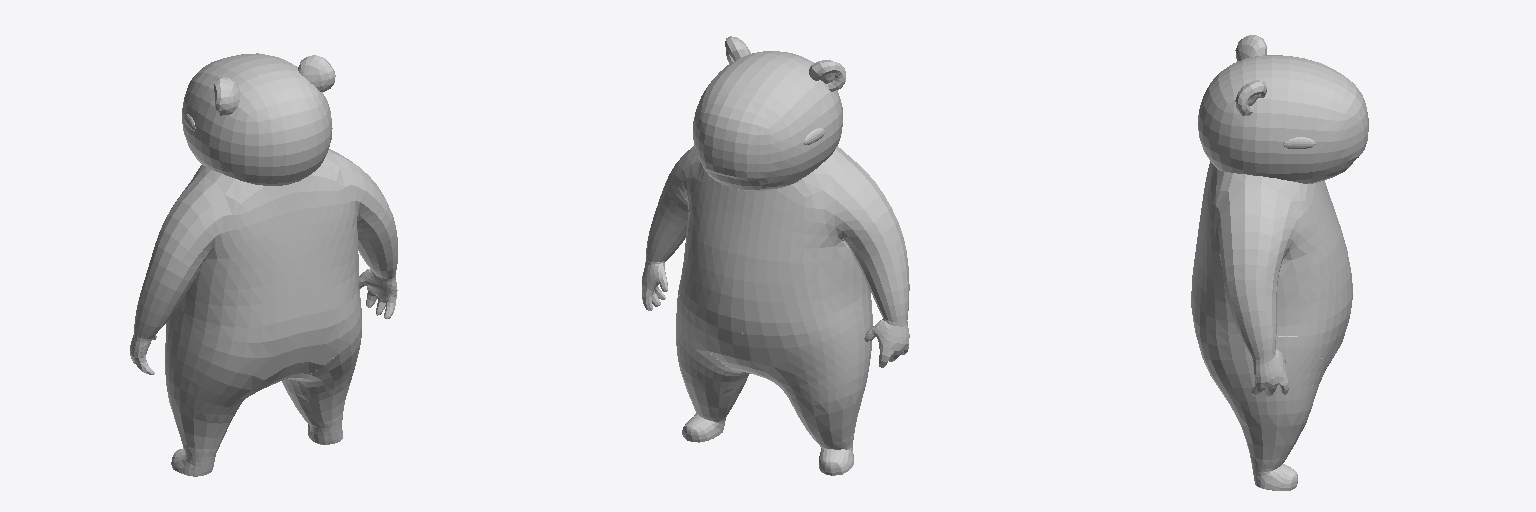
The model's file is avatar.obj.
3 views of the same model, side by side, from view 1: azimuth 30°, elevation 25°; view 2: azimuth 150°, elevation 25°; view 3: azimuth 270°, elevation 25° (orthographic).
Visible parts, largest first — view 1: Player8, Handle1, Player7, Player6, Player2, Player5, Player1, Player14, Player11, Player10, Player13, Player12 (+3 smaller); view 2: Player8, Handle1, Player7, Player6, Player2, Player1, Player5, Player11, Player10, Player13, Player14, Player3 (+3 smaller); view 3: Handle1, Player8, Player14, Player11, Player7, Player13, Player10, Player12, Player9.
Boxes of the visible parts, <box> form: Player8: <box>172,149,359,342</box>; Handle1: <box>182,53,335,185</box>; Player7: <box>166,298,361,384</box>; Player6: <box>165,335,270,414</box>; Player2: <box>149,188,214,286</box>; Player5: <box>167,391,235,457</box>; Player1: <box>134,266,188,338</box>; Player14: <box>341,155,393,243</box>; Player11: <box>282,327,361,394</box>; Player10: <box>284,369,354,427</box>; Player13: <box>358,221,397,278</box>; Player12: <box>359,269,397,318</box>; Player8: <box>679,146,870,335</box>; Handle1: <box>693,36,845,190</box>; Player7: <box>677,284,872,377</box>; Player6: <box>764,323,872,407</box>; Player2: <box>835,168,904,266</box>; Player1: <box>860,244,909,322</box>; Player5: <box>794,385,865,448</box>; Player11: <box>676,313,749,389</box>; Player10: <box>678,361,745,419</box>; Player13: <box>646,199,686,261</box>; Player14: <box>660,145,695,223</box>; Player3: <box>864,318,909,367</box>; Handle1: <box>1198,35,1368,183</box>; Player8: <box>1191,161,1352,336</box>; Player14: <box>1218,198,1292,290</box>; Player11: <box>1203,355,1334,414</box>; Player7: <box>1192,312,1350,360</box>; Player13: <box>1225,288,1276,359</box>; Player10: <box>1235,410,1310,468</box>; Player12: <box>1251,349,1288,396</box>; Player9: <box>1252,464,1297,490</box>.
Size of the model in its own units: 3.15 by 4.52 by 1.84.